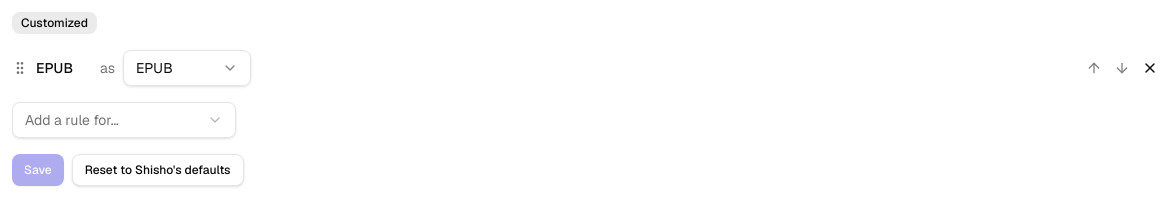
Test: DeliveryRulesEditor › refuses to save an empty list
The image size is (1176, 204).
Click the button named "Remove the EPUB rule".
click(1150, 68)  # box [1136,54,1164,82]
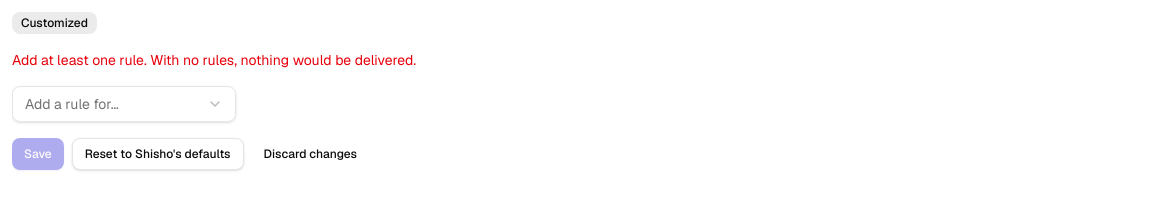
Expected: the button "Save" is disabled, [12,138,64,170]
Result: the message shows "Add at least one rule" at [12,51,416,69]
